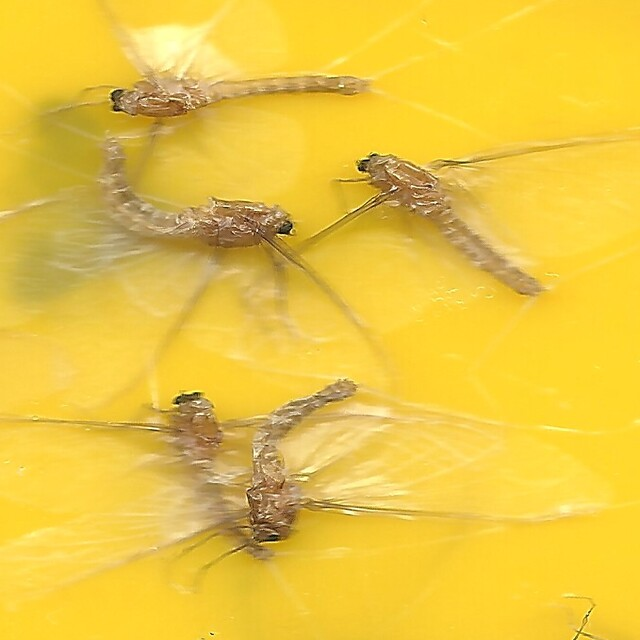Ephemeroptera: (353, 154, 546, 298), (94, 135, 301, 251), (162, 386, 271, 570), (243, 374, 360, 543), (103, 70, 371, 119)
